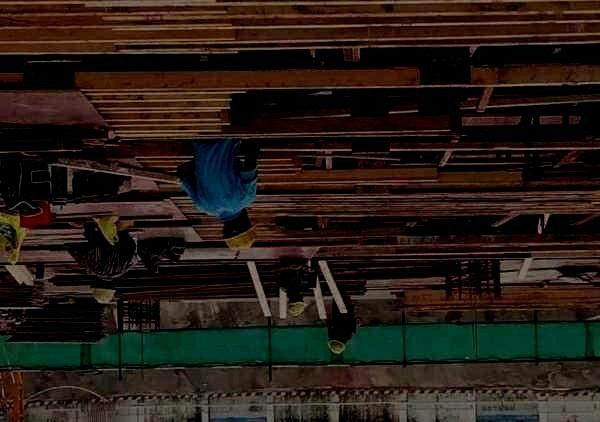helmet: (221, 209, 257, 252), (92, 279, 116, 304), (287, 294, 308, 317), (327, 338, 348, 355)
